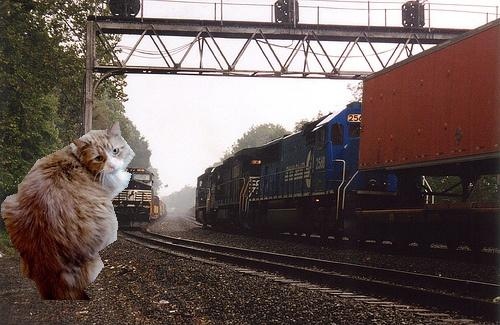tampered: (1, 120, 135, 300)
